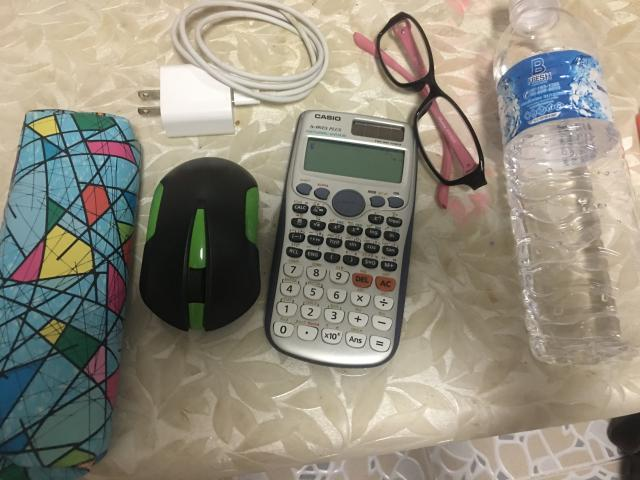Glasses: (354, 12, 486, 209)
Mouse: (140, 158, 260, 331)
bottle: (494, 0, 640, 365)
wire: (138, 0, 329, 138)
